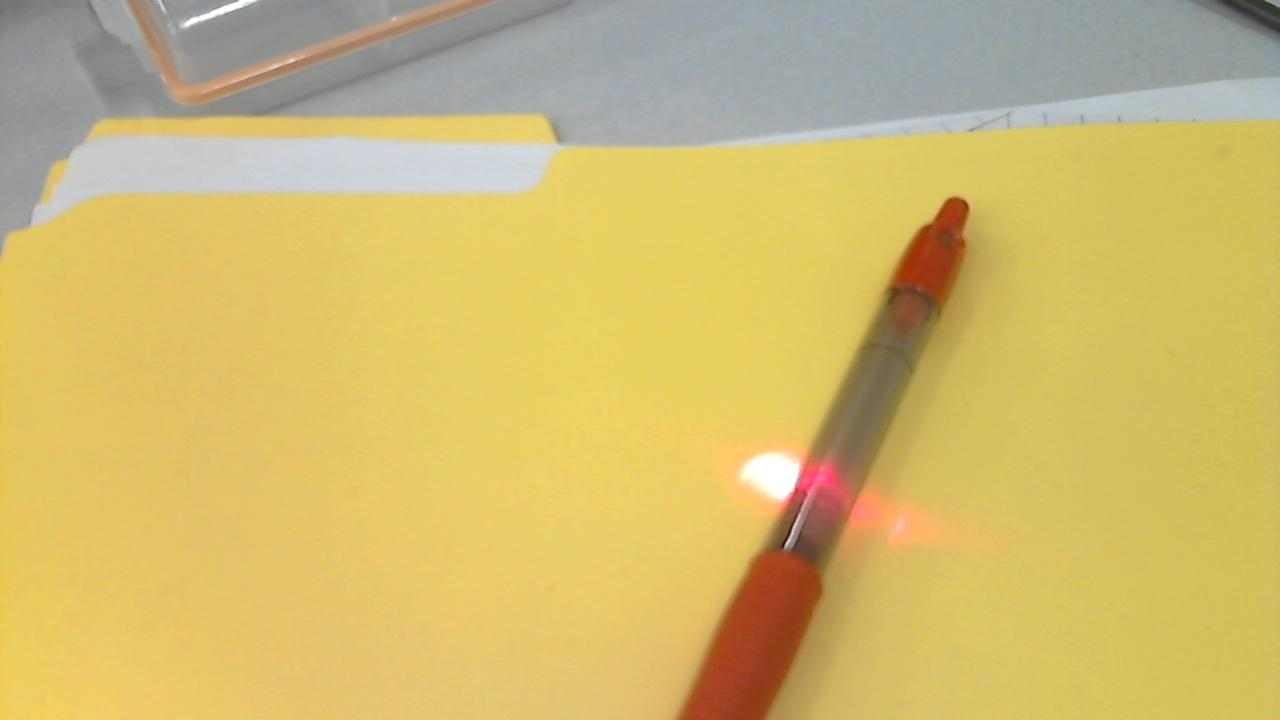Object ballpoint pen - Material plastic - Color clear - Pdfname Tg2wygrqE5uZ: (780, 460, 850, 514)
